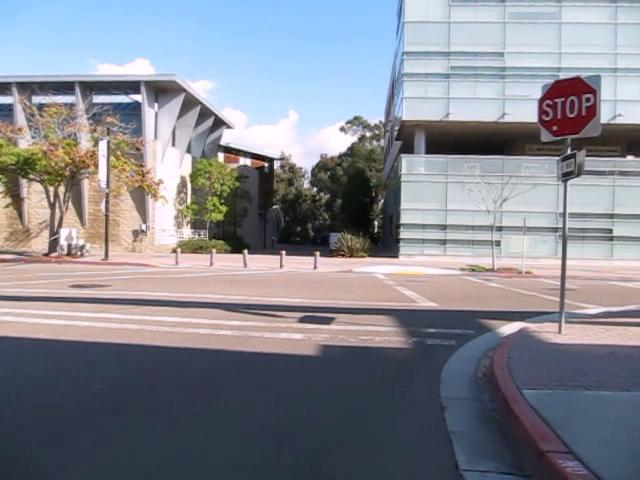stop: (537, 75, 599, 138)
